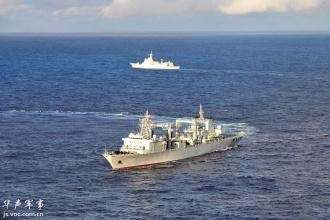warship: (98, 106, 258, 170), (129, 49, 183, 73)
